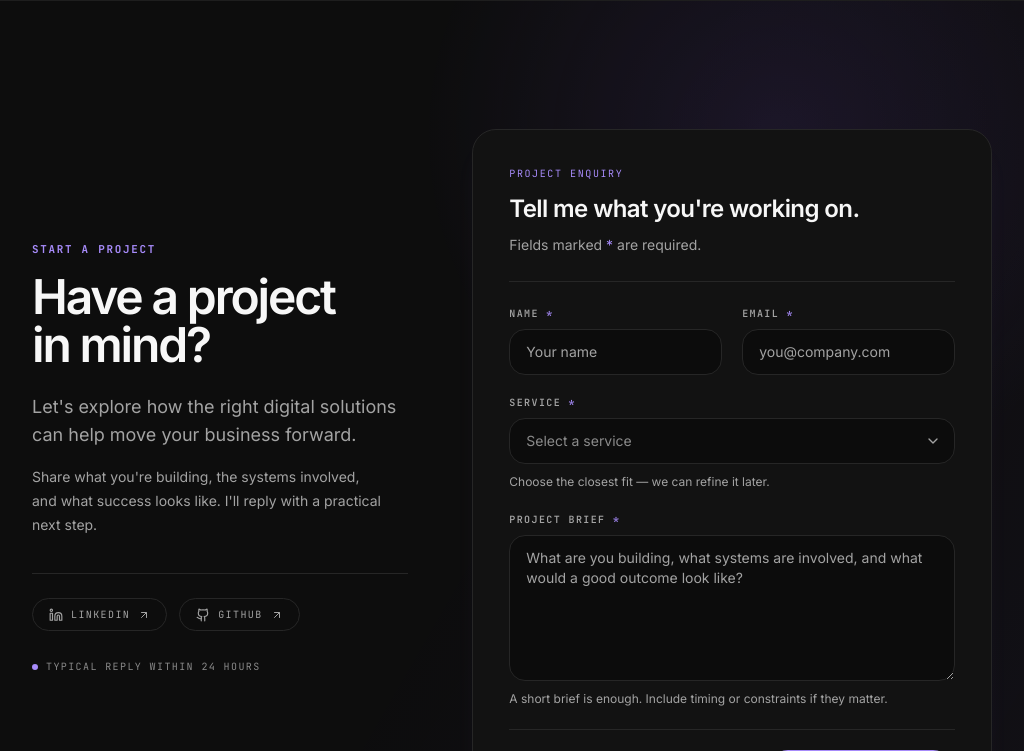
Test: ContactSection › rejects an invalid email before calling the API
In the field labelled "Name *": (616, 352) x1=509 y1=329 x2=722 y2=375, type "Alex"
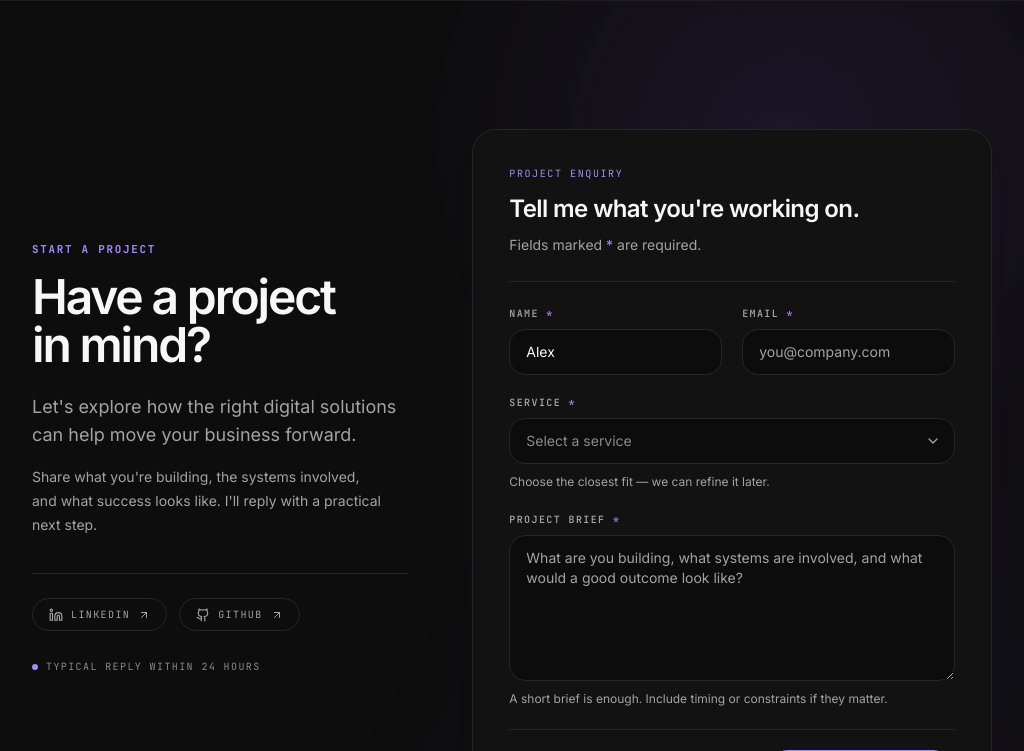
In the field labelled "Email *": (849, 352) x1=742 y1=329 x2=955 y2=375, type "not-an-email"
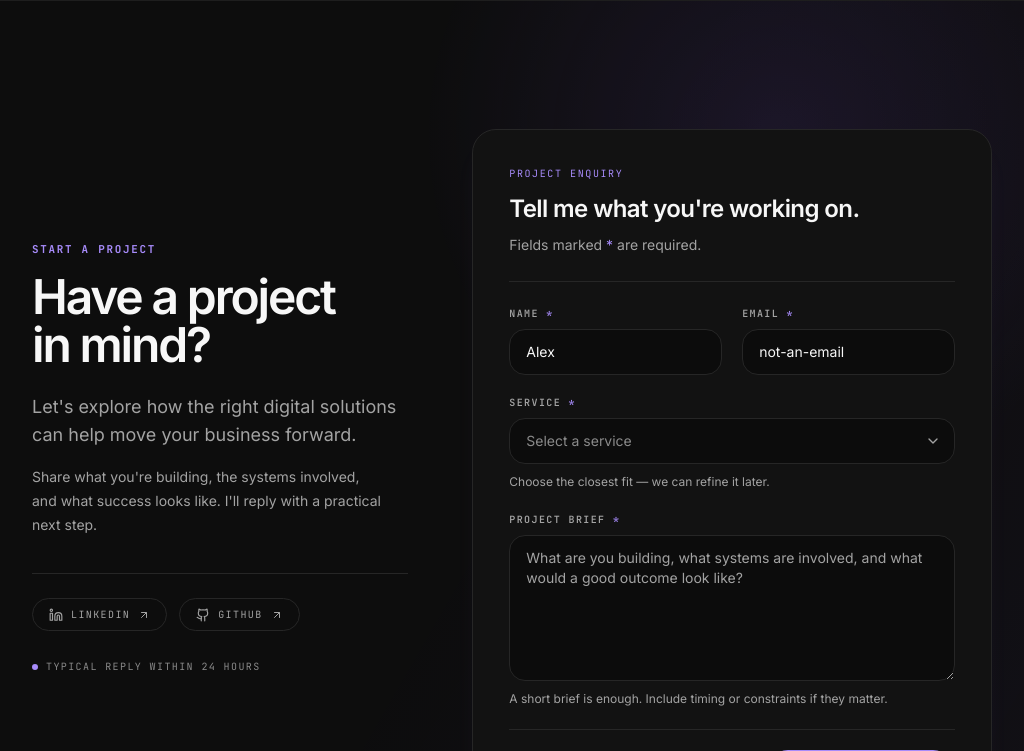
Select "Web Development" in the dropdown labelled "Service *": (732, 441) x1=509 y1=418 x2=955 y2=464
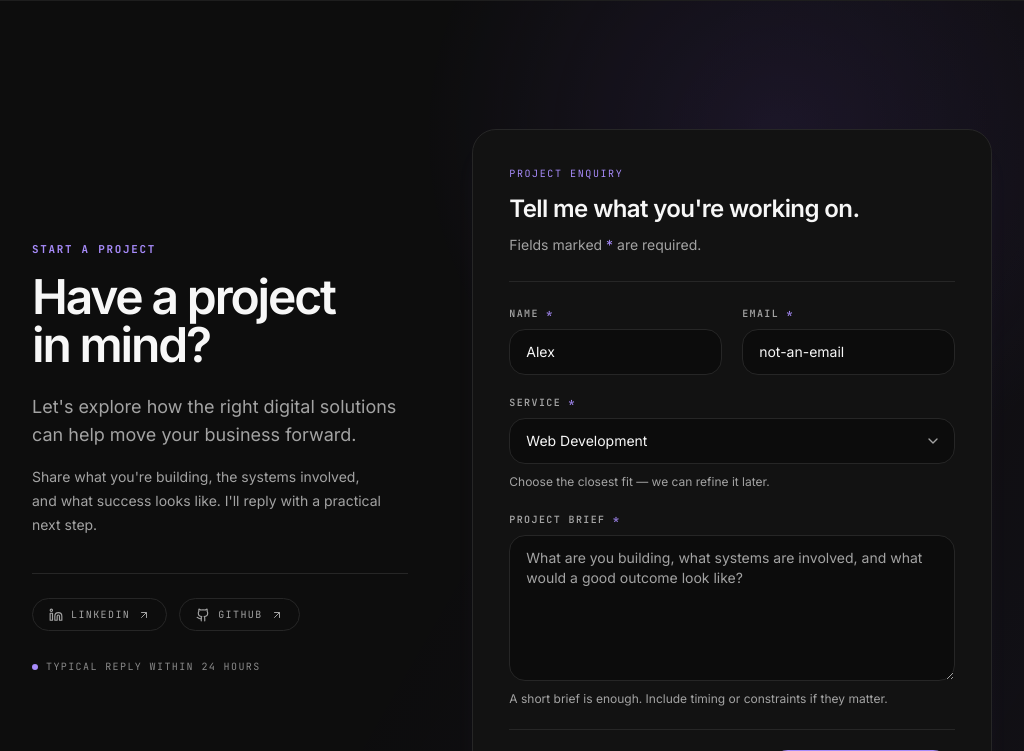
Replace the text in the text box labelled "Project brief *" with "A new site.": (732, 608) x1=509 y1=535 x2=955 y2=681
(page scrolled)
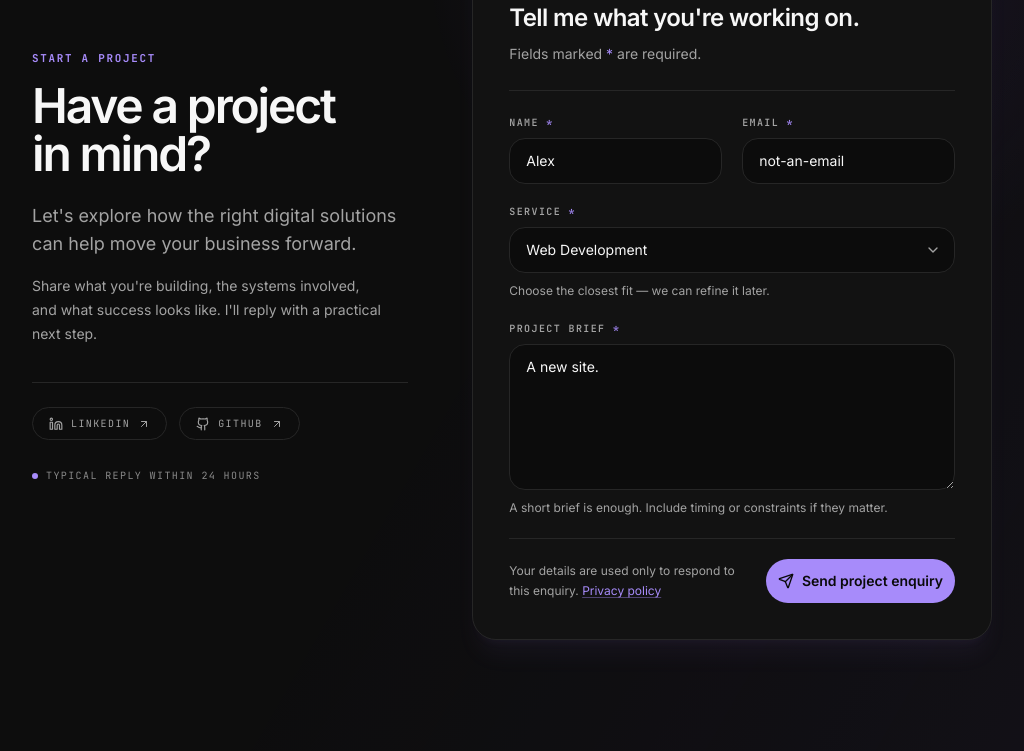
Click the button "Send project enquiry": click(860, 581) x1=766 y1=559 x2=955 y2=603
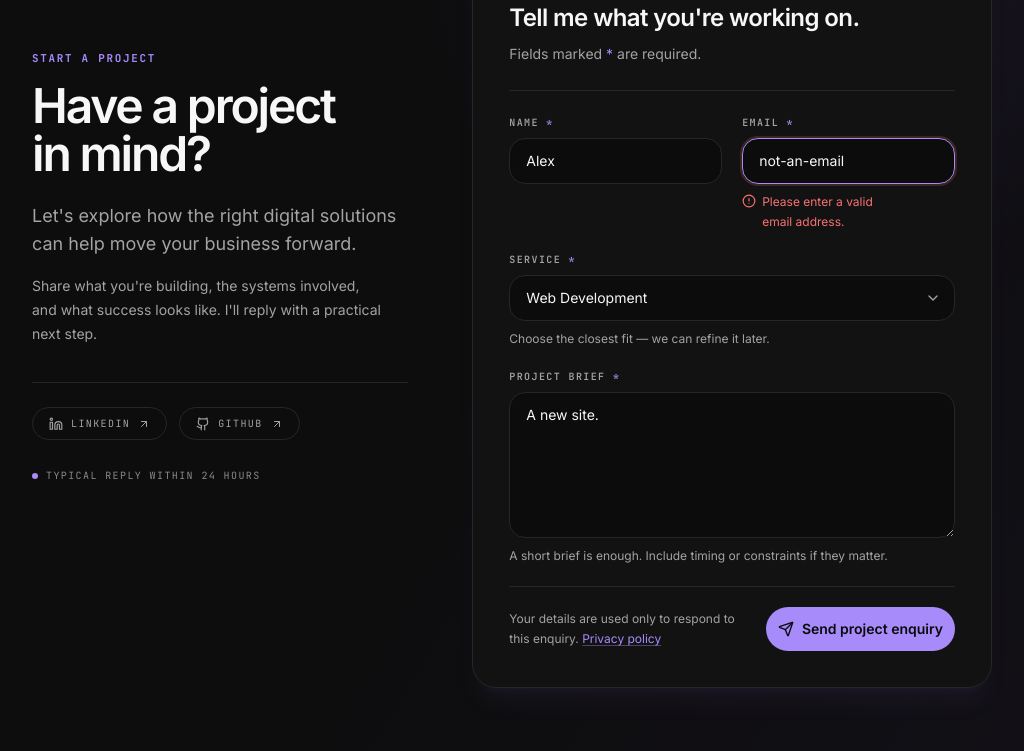
Now the text "Please enter a valid email address." is shown, box x1=762 y1=194 x2=873 y2=229
